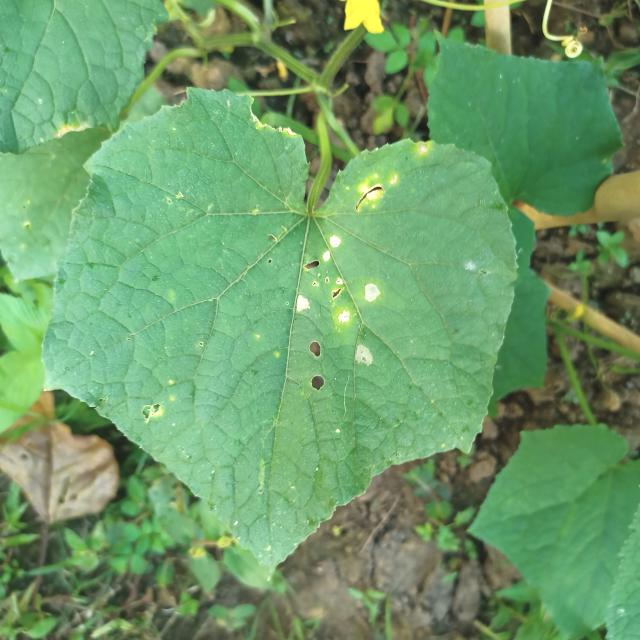disease_cucumber: (280, 231, 388, 373)
